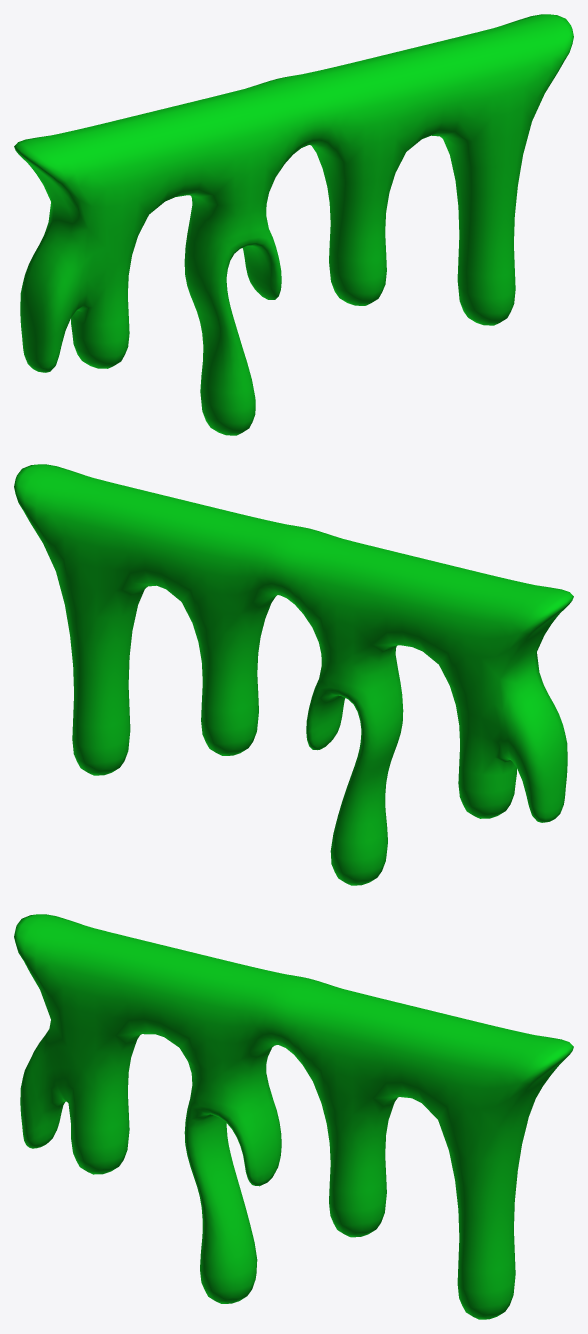
Rendered from Wall_Slime_01.fbx.
The picture shows the model from 3 angles, top to bottom: view 1: azimuth 30°, elevation 25°; view 2: azimuth 150°, elevation 25°; view 3: azimuth 330°, elevation 25°; orthographic projection.
Parts seen in each view (by area): view 1: Cube.001; view 2: Cube.001; view 3: Cube.001.
Boxes of the visible parts, <box> form: Cube.001: <box>14,14,573,435</box>; Cube.001: <box>14,464,573,885</box>; Cube.001: <box>14,914,573,1319</box>.
Bounding box in the file's own units: 342 × 200 × 48.44.
